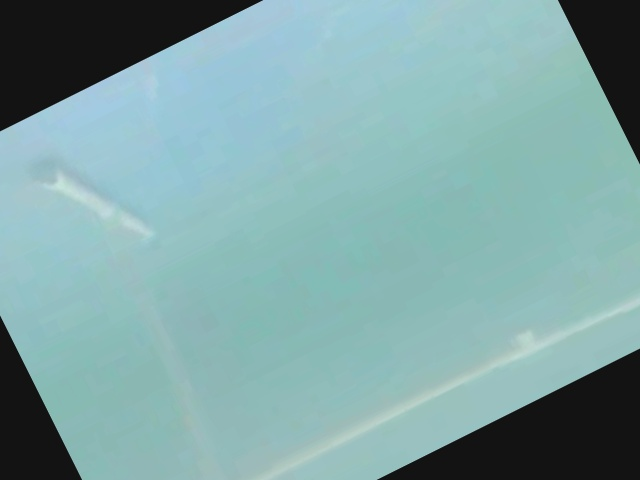gate: (23, 84, 637, 472)
